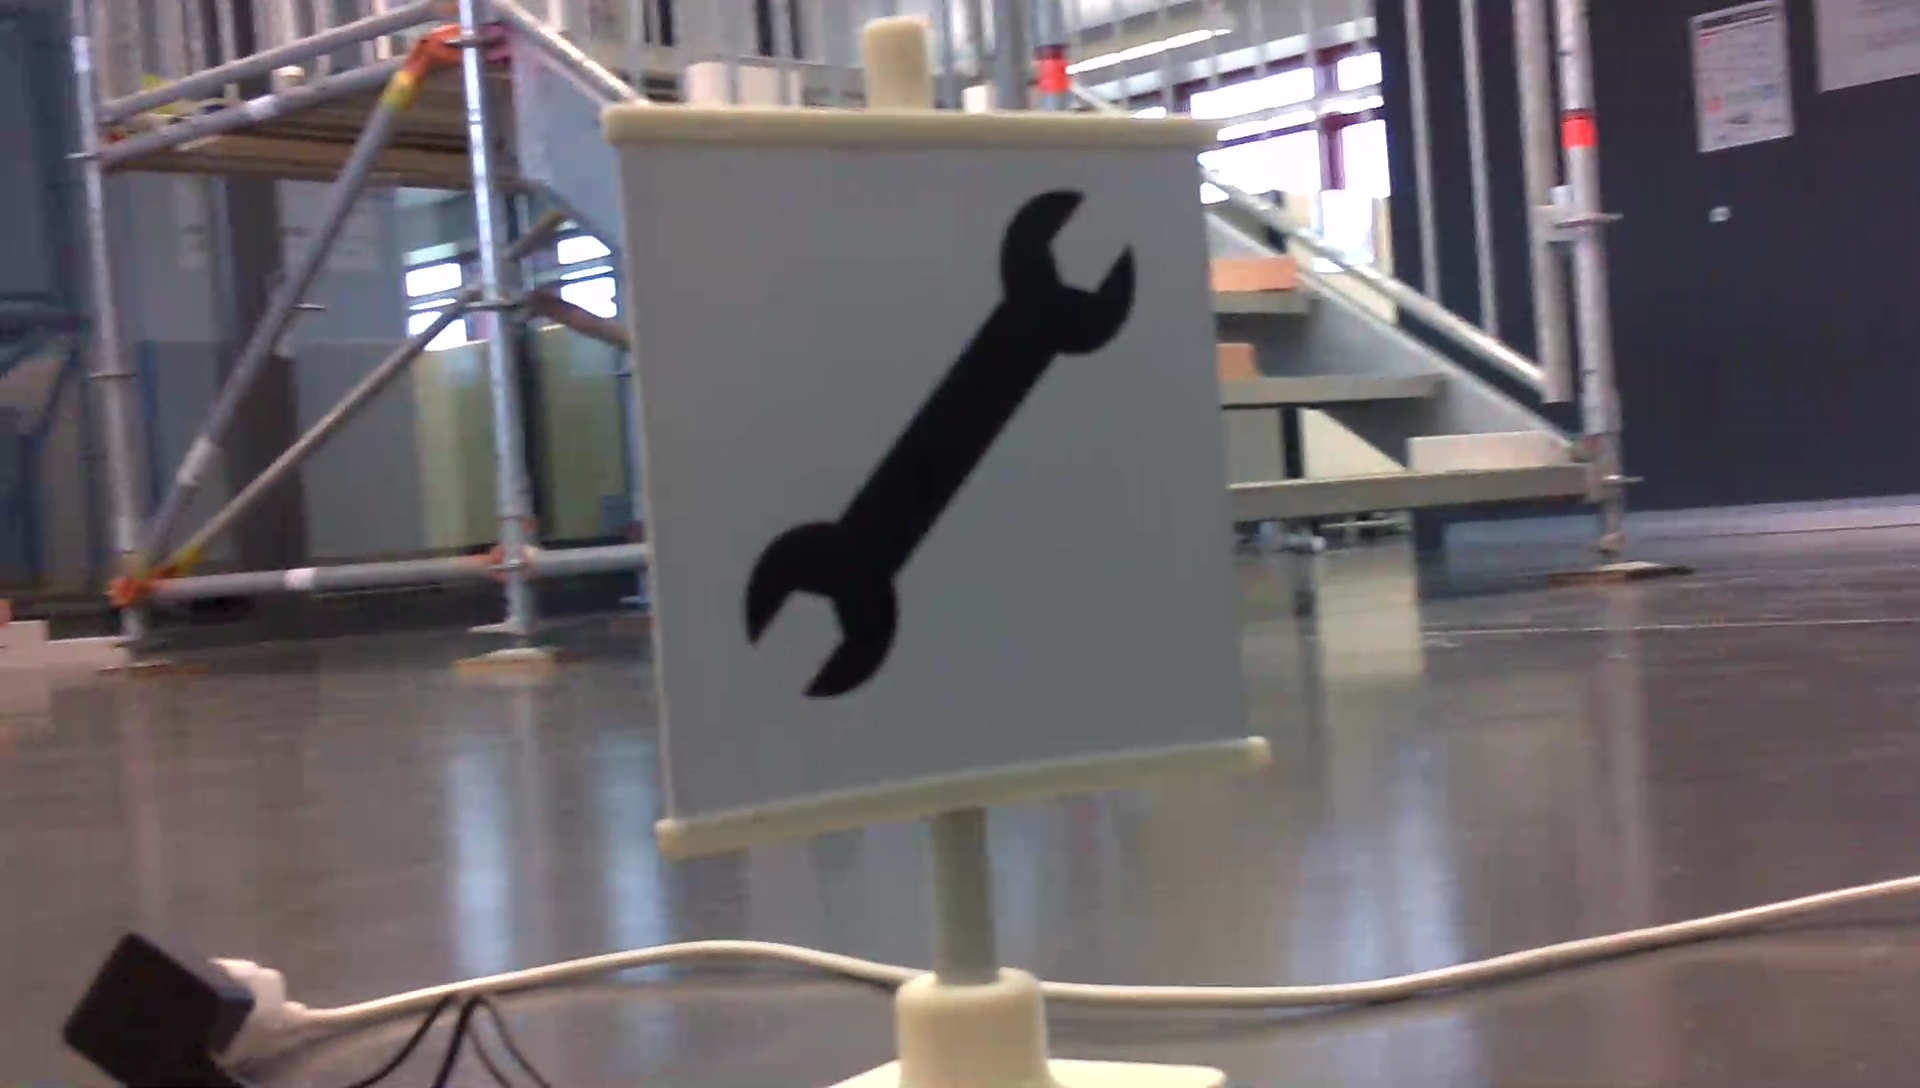brick: (1410, 433, 1543, 469), (1208, 255, 1290, 287), (1216, 342, 1250, 382)
edge: (1230, 466, 1588, 518), (1218, 373, 1448, 405), (1212, 291, 1323, 313)
wrench: (729, 179, 1150, 708)
